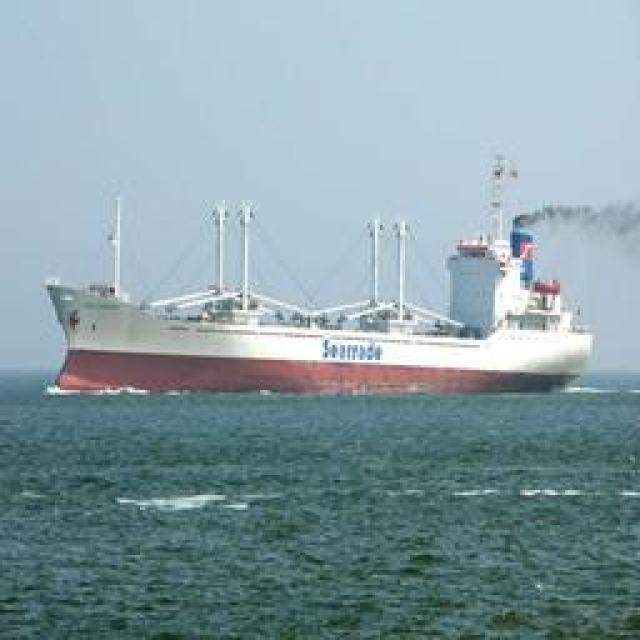ship2: (41, 146, 594, 401)
